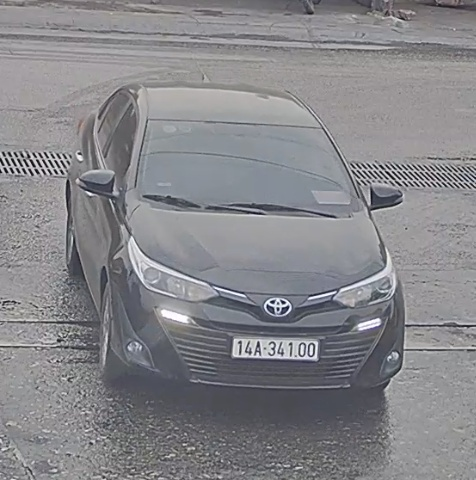vehicle plate: (219, 329, 334, 367)
